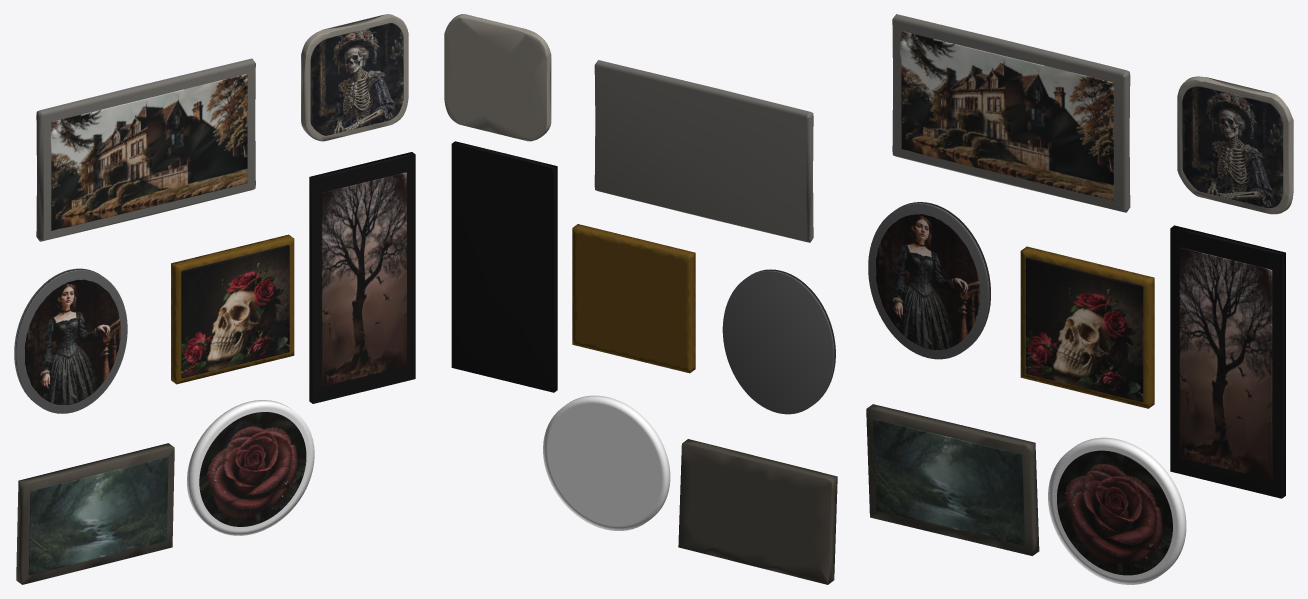
File: pictures.glb
3 views of the same model, side by side, from view 1: azimuth 30°, elevation 25°; view 2: azimuth 150°, elevation 25°; view 3: azimuth 330°, elevation 25° (orthographic). The views are drawn at different scales.
Parts seen in each view (by area): view 1: Object_7, Object_3, Object_2, Object_6, Object_11, Object_8, Object_4, Object_5, Object_9; view 2: Object_7, Object_3, Object_2, Object_6, Object_8, Object_11, Object_4; view 3: Object_7, Object_3, Object_2, Object_6, Object_11, Object_8, Object_4, Object_5, Object_9.
Boxes of the visible parts, box(x1,y1,x2,y2) form: Object_7: box(36, 58, 255, 241); Object_3: box(309, 152, 415, 403); Object_2: box(16, 443, 174, 584); Object_6: box(171, 234, 294, 384); Object_11: box(14, 268, 127, 413); Object_8: box(187, 400, 314, 535); Object_4: box(301, 14, 408, 141); Object_5: box(310, 23, 403, 130); Object_9: box(199, 413, 253, 512); Object_7: box(594, 60, 813, 242); Object_3: box(451, 141, 557, 392); Object_2: box(678, 439, 837, 584); Object_6: box(572, 224, 695, 373); Object_8: box(543, 395, 670, 530); Object_11: box(722, 269, 835, 414); Object_4: box(444, 14, 551, 141); Object_7: box(892, 14, 1130, 212); Object_3: box(1170, 225, 1285, 498); Object_2: box(866, 404, 1039, 555); Object_6: box(1020, 246, 1154, 408); Object_11: box(868, 202, 990, 359); Object_8: box(1048, 437, 1186, 584); Object_4: box(1177, 76, 1293, 214); Object_5: box(1182, 86, 1282, 205); Object_9: box(1057, 450, 1115, 536).
Size of the model in its own units: 3.79 by 4.47 by 0.2462.
7 materials, 7 textured.
